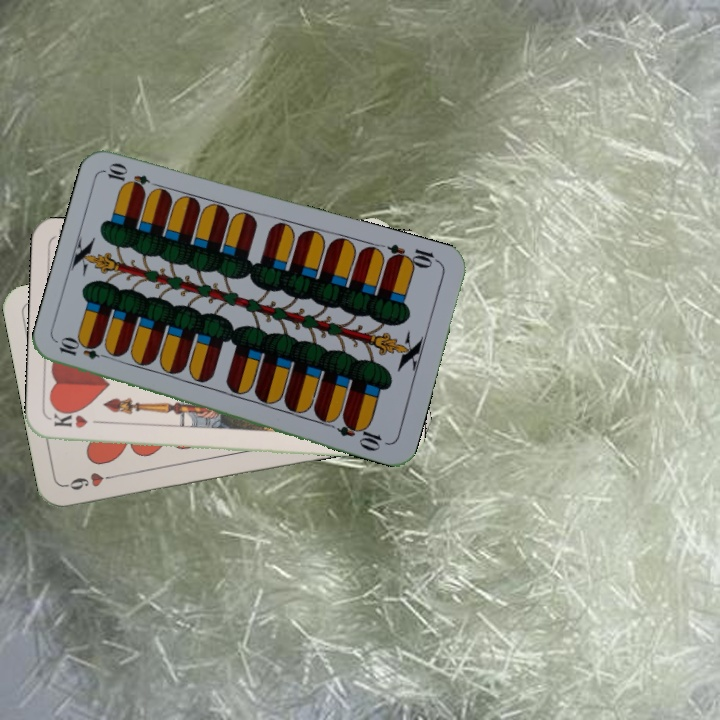E10: (383, 240, 442, 271), (55, 336, 114, 363)
H9: (62, 468, 120, 493)
HK: (49, 411, 109, 431)
